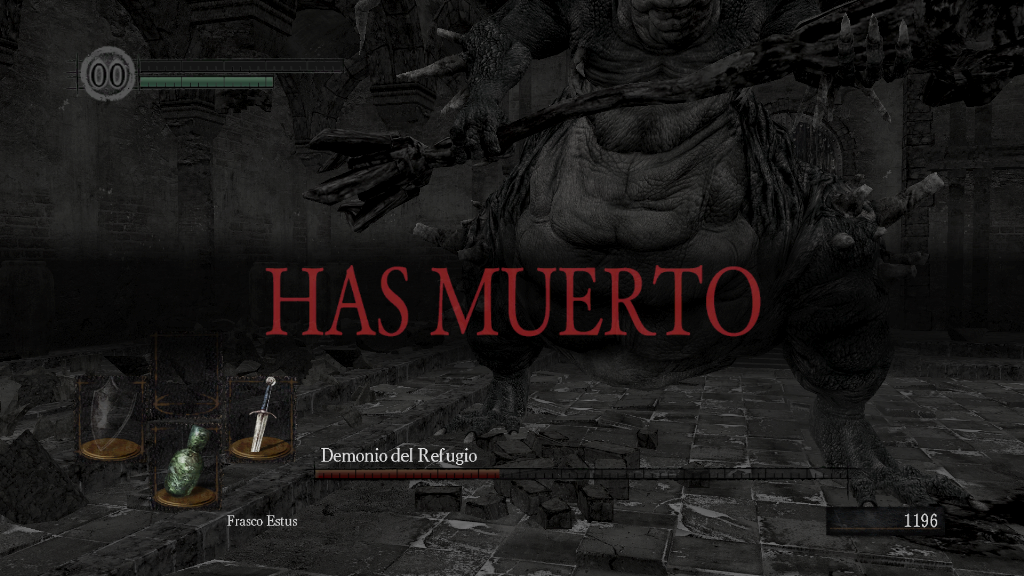asylumDemon: (413, 4, 947, 510)
bossHP: (314, 469, 847, 479)
health: (138, 58, 343, 71)
humanity: (80, 45, 136, 102)
souls: (825, 506, 945, 536)
stamina: (138, 74, 274, 88)
